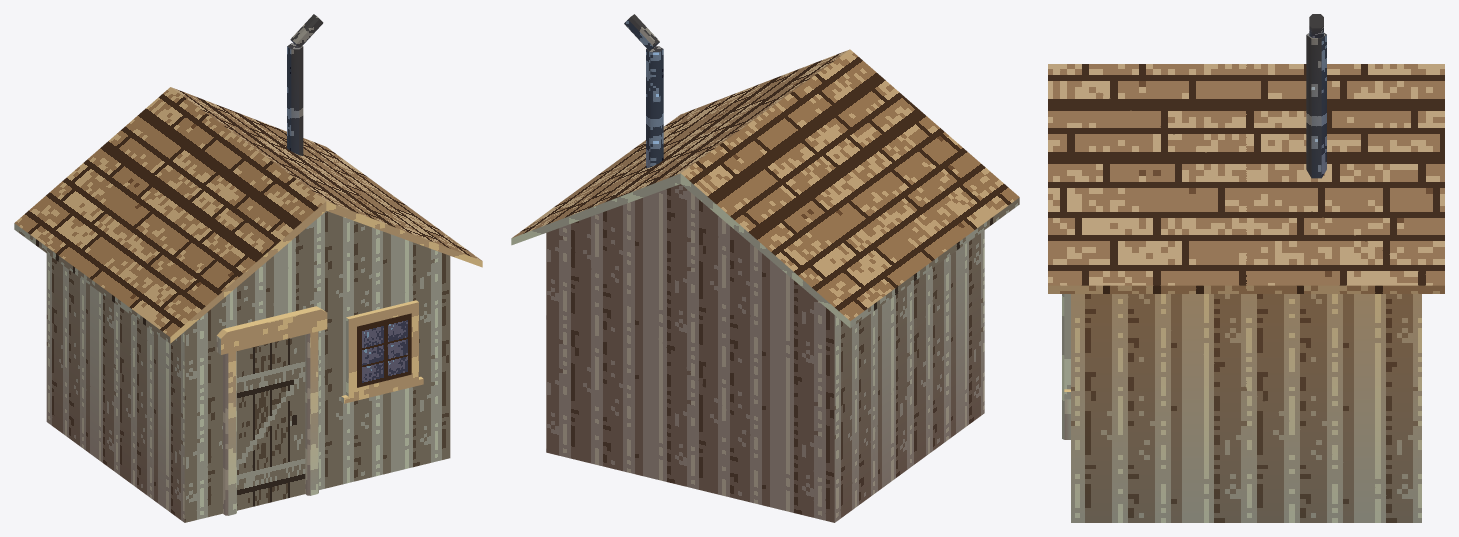
The model's file is wtown.shack__shingle.glb.
3 renders of one model, left to right at view 1: azimuth 30°, elevation 25°; view 2: azimuth 150°, elevation 25°; view 3: azimuth 270°, elevation 25°, orthographic. The views are drawn at different scales.
Visible parts, largest first — view 1: kit_body, kit_roof, kit_card_panes, kit_trim, kit_windows, kit_pipe; view 2: kit_body, kit_roof, kit_pipe; view 3: kit_roof, kit_body, kit_pipe, kit_windows, kit_trim.
Part boxes in pixels (box(x1,y1,x2,y2)): kit_body: box(46, 211, 450, 522); kit_roof: box(14, 87, 482, 343); kit_card_panes: box(237, 313, 411, 510); kit_trim: box(216, 306, 327, 515); kit_windows: box(341, 300, 423, 403); kit_pipe: box(287, 43, 303, 155); kit_body: box(546, 184, 984, 522); kit_roof: box(511, 49, 1019, 328); kit_pipe: box(646, 46, 663, 168); kit_roof: box(1048, 64, 1444, 293); kit_body: box(1071, 294, 1421, 522); kit_pipe: box(1306, 33, 1326, 178); kit_windows: box(1064, 294, 1070, 399); kit_trim: box(1062, 294, 1070, 439).
Bounding box in the file's own units: 4 × 4.67 × 3.46.
Materials: 6 (6 with a texture image).
